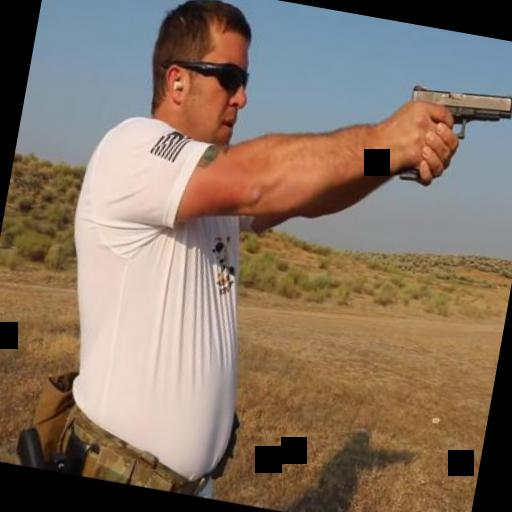Handgun: (391, 73, 512, 195)
